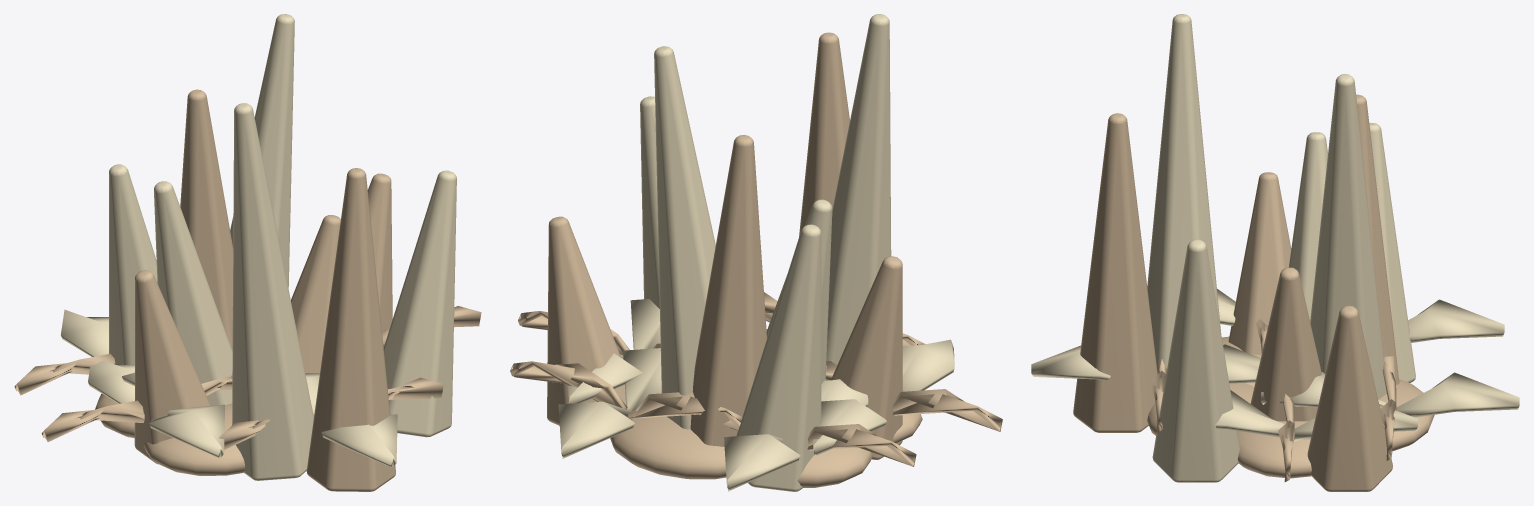
Rendered from bio_crystal_fan_10_near.glb.
3 views of the same model, side by side, from view 1: azimuth 30°, elevation 25°; view 2: azimuth 150°, elevation 25°; view 3: azimuth 270°, elevation 25° (orthographic). The views are drawn at different scales.
Visible parts, largest first — view 1: Reflecting mineral prism.007, Reflecting mineral prism.002, Reflecting mineral prism.005, Reflecting mineral prism.009, Reflecting mineral prism.006, Reflecting mineral prism.004, Reflecting mineral prism.003, Reflecting mineral prism.001, Reflecting mineral prism, Low buttress leaf.017, Mineral substrate, Reflecting mineral prism.008 (+6 smaller); view 2: Reflecting mineral prism.003, Reflecting mineral prism.006, Reflecting mineral prism.007, Reflecting mineral prism.001, Reflecting mineral prism.008, Mineral substrate, Reflecting mineral prism.004, Reflecting mineral prism.002, Low buttress leaf.013, Low buttress leaf.017, Low buttress leaf.012, Low buttress leaf.005 (+6 smaller); view 3: Reflecting mineral prism.002, Reflecting mineral prism.005, Reflecting mineral prism.007, Reflecting mineral prism.003, Reflecting mineral prism.008, Reflecting mineral prism, Reflecting mineral prism.004, Mineral substrate, Reflecting mineral prism.009, Reflecting mineral prism.001, Low buttress leaf.013, Reflecting mineral prism.006 (+6 smaller).
Part boxes in pixels (x1=…): Reflecting mineral prism.007: x1=232, y1=103, x2=313, y2=480; Reflecting mineral prism.002: x1=306, y1=168, x2=395, y2=491; Reflecting mineral prism.005: x1=383, y1=170, x2=456, y2=437; Reflecting mineral prism.009: x1=154, y1=181, x2=232, y2=405; Reflecting mineral prism.006: x1=180, y1=89, x2=233, y2=350; Reflecting mineral prism.004: x1=134, y1=270, x2=210, y2=464; Reflecting mineral prism.003: x1=230, y1=14, x2=294, y2=317; Reflecting mineral prism.001: x1=109, y1=164, x2=157, y2=364; Reflecting mineral prism: x1=291, y1=215, x2=340, y2=373; Low buttress leaf.017: x1=88, y1=356, x2=224, y2=457; Mineral substrate: x1=95, y1=393, x2=244, y2=475; Reflecting mineral prism.008: x1=367, y1=173, x2=392, y2=331; Reflecting mineral prism.003: x1=654, y1=46, x2=715, y2=429; Reflecting mineral prism.006: x1=690, y1=135, x2=766, y2=446; Reflecting mineral prism.007: x1=826, y1=14, x2=891, y2=364; Reflecting mineral prism.001: x1=736, y1=224, x2=821, y2=491; Reflecting mineral prism.008: x1=547, y1=216, x2=625, y2=425; Mineral substrate: x1=610, y1=414, x2=922, y2=487; Reflecting mineral prism.004: x1=831, y1=256, x2=902, y2=459; Reflecting mineral prism.002: x1=799, y1=32, x2=849, y2=236; Low buttress leaf.013: x1=558, y1=348, x2=661, y2=458; Low buttress leaf.017: x1=812, y1=339, x2=954, y2=456; Low buttress leaf.012: x1=510, y1=361, x2=742, y2=430; Low buttress leaf.005: x1=724, y1=379, x2=868, y2=491; Reflecting mineral prism.002: x1=1073, y1=113, x2=1157, y2=432; Reflecting mineral prism.005: x1=1152, y1=239, x2=1239, y2=482; Reflecting mineral prism.007: x1=1147, y1=14, x2=1221, y2=373; Reflecting mineral prism.003: x1=1310, y1=74, x2=1386, y2=399; Reflecting mineral prism.008: x1=1307, y1=305, x2=1392, y2=491; Reflecting mineral prism: x1=1250, y1=267, x2=1321, y2=421; Reflecting mineral prism.004: x1=1228, y1=172, x2=1291, y2=355; Mineral substrate: x1=1147, y1=336, x2=1434, y2=478; Reflecting mineral prism.009: x1=1288, y1=132, x2=1327, y2=321; Reflecting mineral prism.001: x1=1369, y1=123, x2=1415, y2=382; Low buttress leaf.013: x1=1261, y1=372, x2=1519, y2=417; Reflecting mineral prism.006: x1=1356, y1=94, x2=1399, y2=384.
Bounding box in the file's own units: 2.22 × 1.79 × 2.09.
